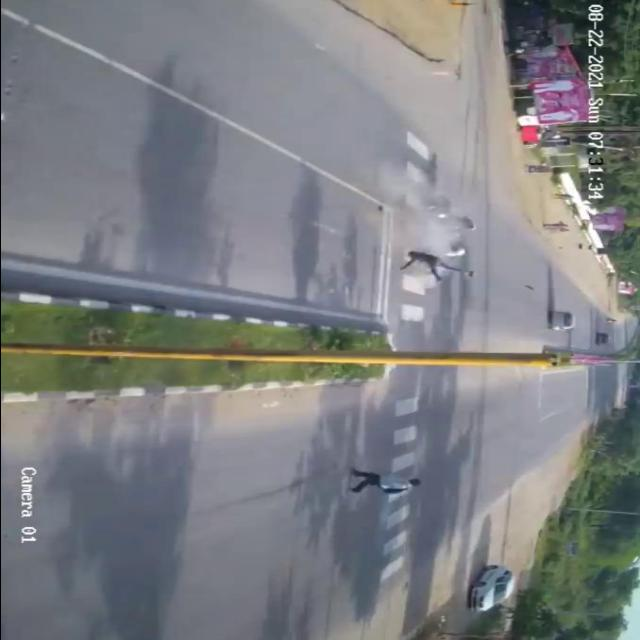accident: (381, 190, 483, 282)
